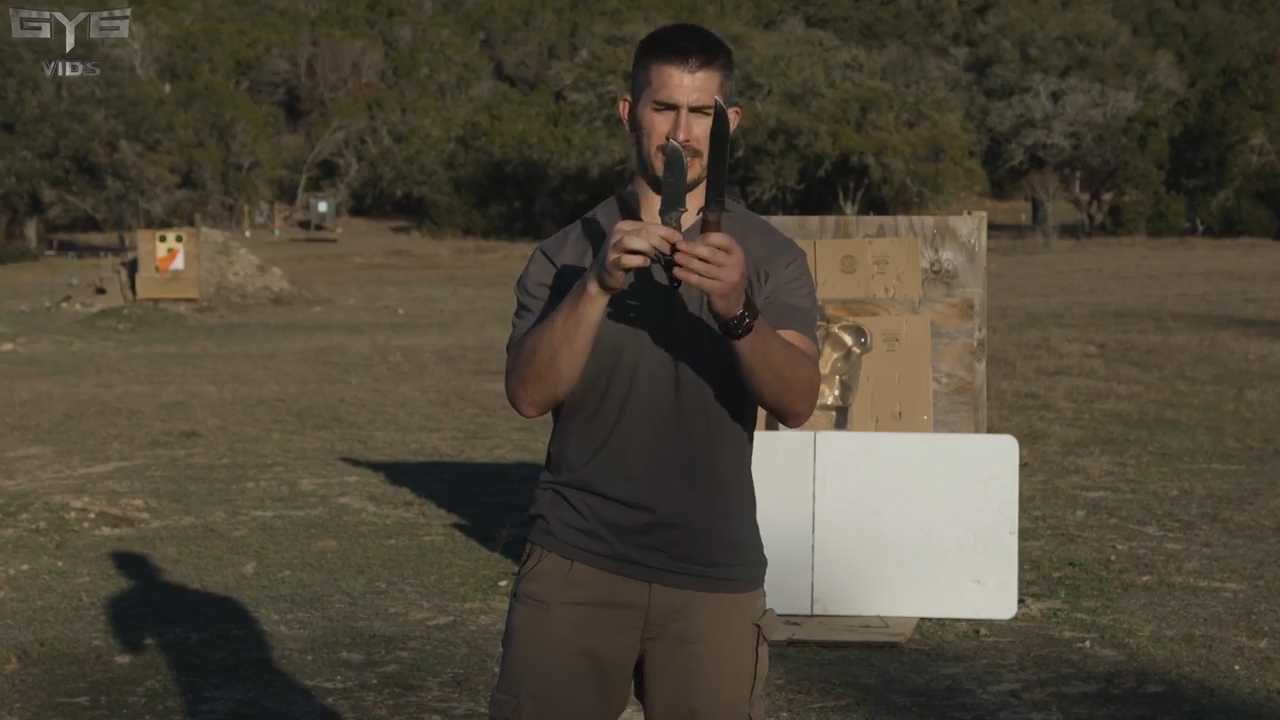knife: (611, 128, 692, 288), (692, 86, 735, 309)
